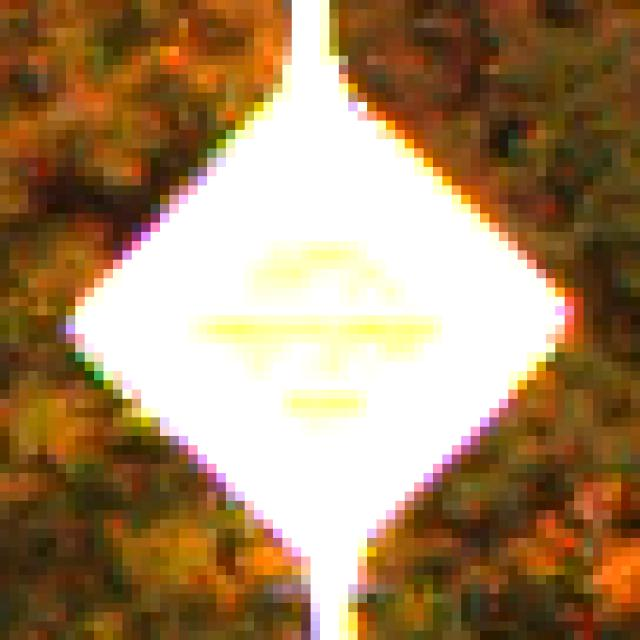Main Road: (58, 57, 585, 585)
